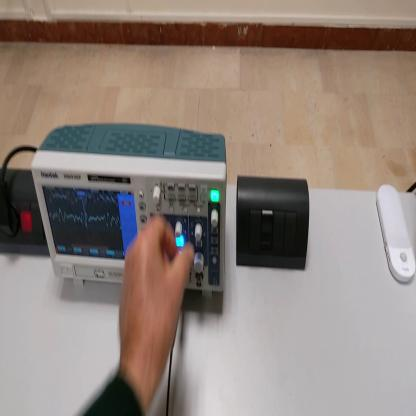hand: (117, 215, 195, 410)
oscilloscope: (31, 118, 228, 297)
socket: (2, 165, 51, 257)
